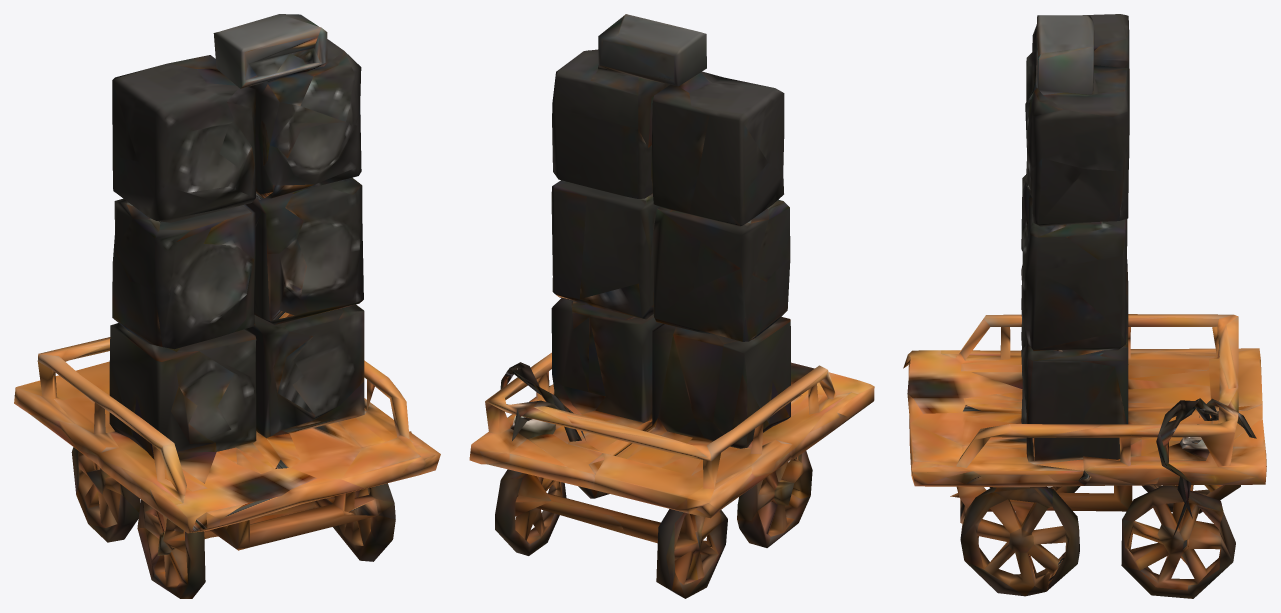
The model's file is speaker.glb.
3 renders of one model, left to right at view 1: azimuth 30°, elevation 25°; view 2: azimuth 150°, elevation 25°; view 3: azimuth 270°, elevation 25°, orthographic. The views are drawn at different scales.
Parts seen in each view (by area): view 1: tripo_node_ffa12c82-6578-480a-b423-fb263db04a7b; view 2: tripo_node_ffa12c82-6578-480a-b423-fb263db04a7b; view 3: tripo_node_ffa12c82-6578-480a-b423-fb263db04a7b.
Part boxes in pixels (<box>): tripo_node_ffa12c82-6578-480a-b423-fb263db04a7b: <box>14,14,440,598</box>; tripo_node_ffa12c82-6578-480a-b423-fb263db04a7b: <box>469,14,874,598</box>; tripo_node_ffa12c82-6578-480a-b423-fb263db04a7b: <box>903,14,1266,598</box>.
Bounding box in the file's own units: 0.5233 × 0.9746 × 0.6108.
Materials: 1 (1 with a texture image).
